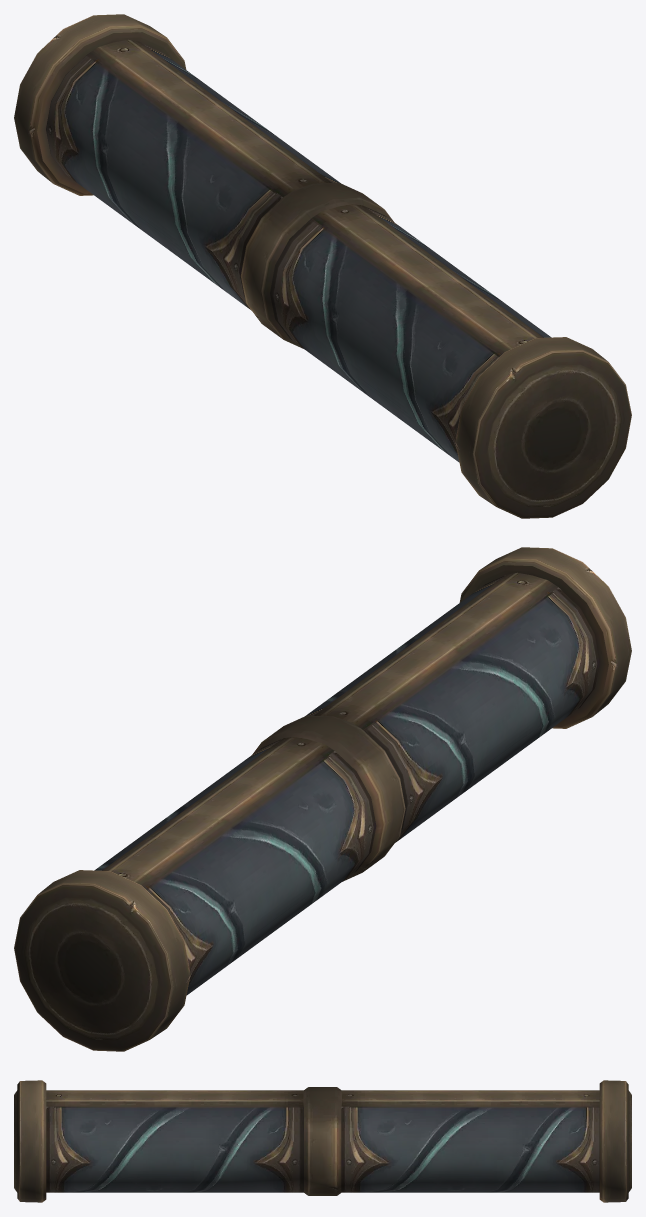
3 renders of one model, top to bottom at view 1: azimuth 30°, elevation 25°; view 2: azimuth 150°, elevation 25°; view 3: azimuth 270°, elevation 25°, orthographic. The views are drawn at different scales.
Bounding box in the file's own units: 1.64 × 1.64 × 8.26.
2 materials, 2 textured.
